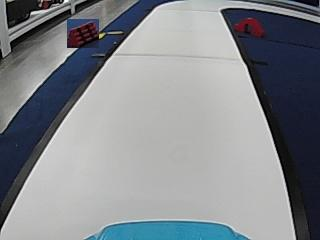bridge: (235, 16, 264, 36)
